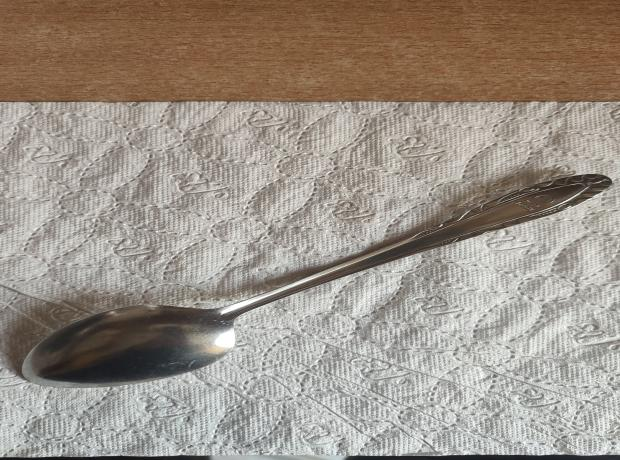metal: (21, 173, 612, 388)
